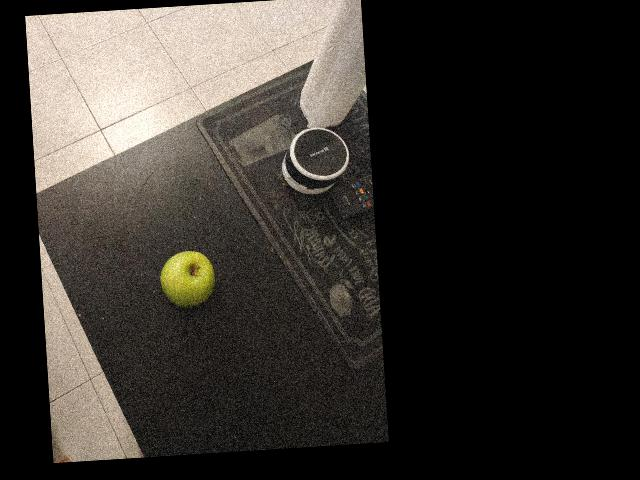apple: (58, 124, 135, 196)
